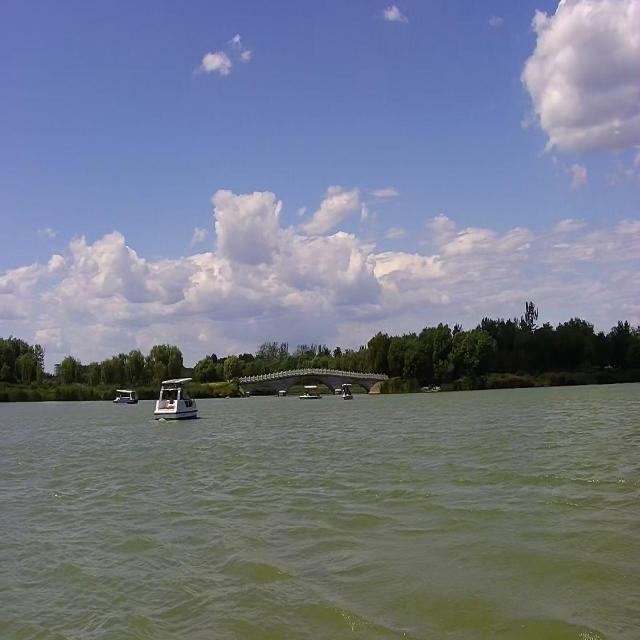CIV_Ship: (153, 368, 200, 418), (113, 385, 141, 408), (296, 382, 322, 400), (339, 376, 354, 404)
